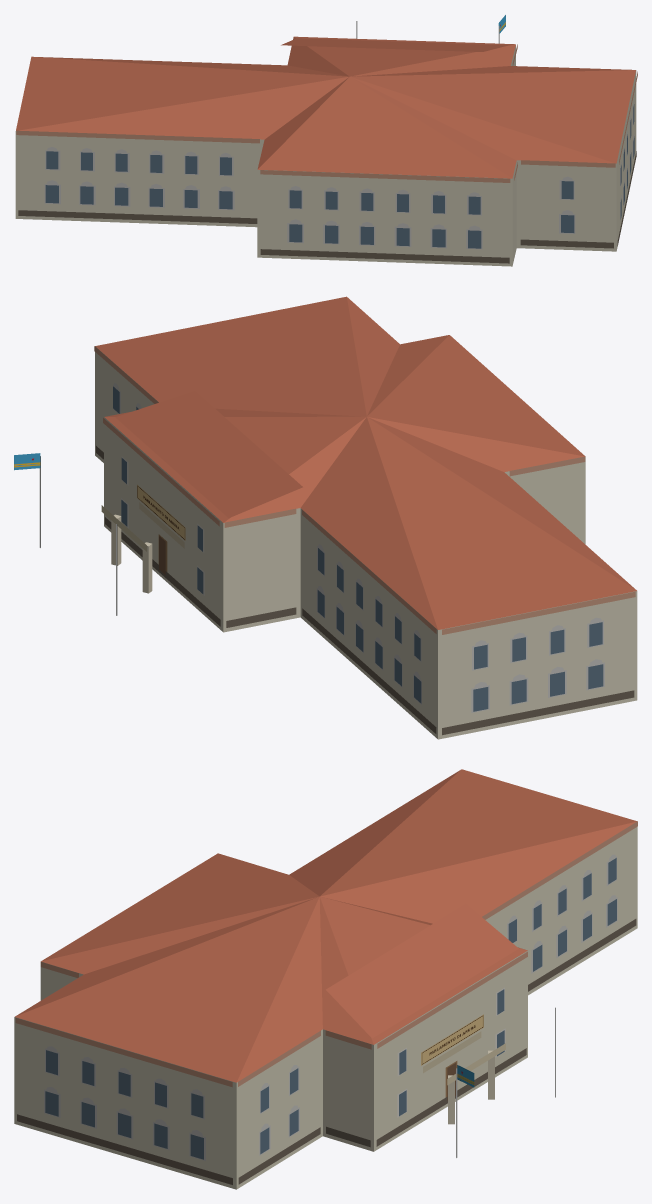
Rendered from gova77053638.glb.
The picture shows the model from 3 angles, top to bottom: view 1: azimuth 30°, elevation 25°; view 2: azimuth 150°, elevation 25°; view 3: azimuth 270°, elevation 25°; orthographic projection. The views are drawn at different scales.
Parts seen in each view (by area): view 1: gova77053638_lod0; view 2: gova77053638_lod0; view 3: gova77053638_lod0.
Part boxes in pixels (<box>): gova77053638_lod0: <box>15,15,637,266</box>; gova77053638_lod0: <box>14,296,637,739</box>; gova77053638_lod0: <box>14,769,637,1189</box>.
Size of what is drawn, in the model's own units: 48.13 by 10.25 by 40.45.
2 materials, 1 textured.
